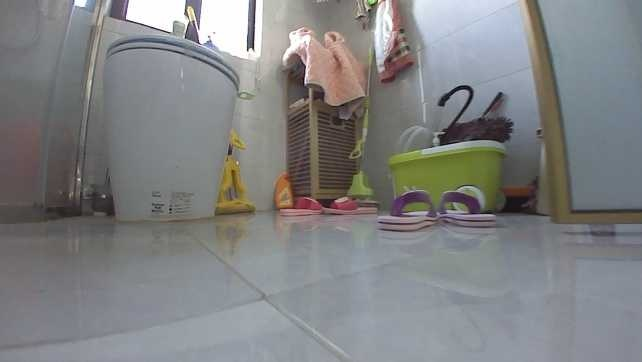slipper: (376, 190, 441, 233), (439, 188, 500, 228), (322, 193, 375, 214), (277, 194, 321, 219)
toilet: (100, 36, 242, 220)
